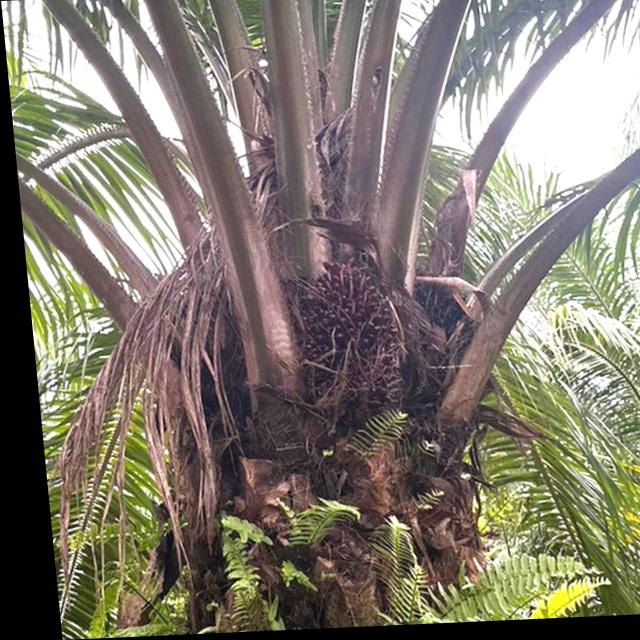ripe: (267, 244, 410, 433)
